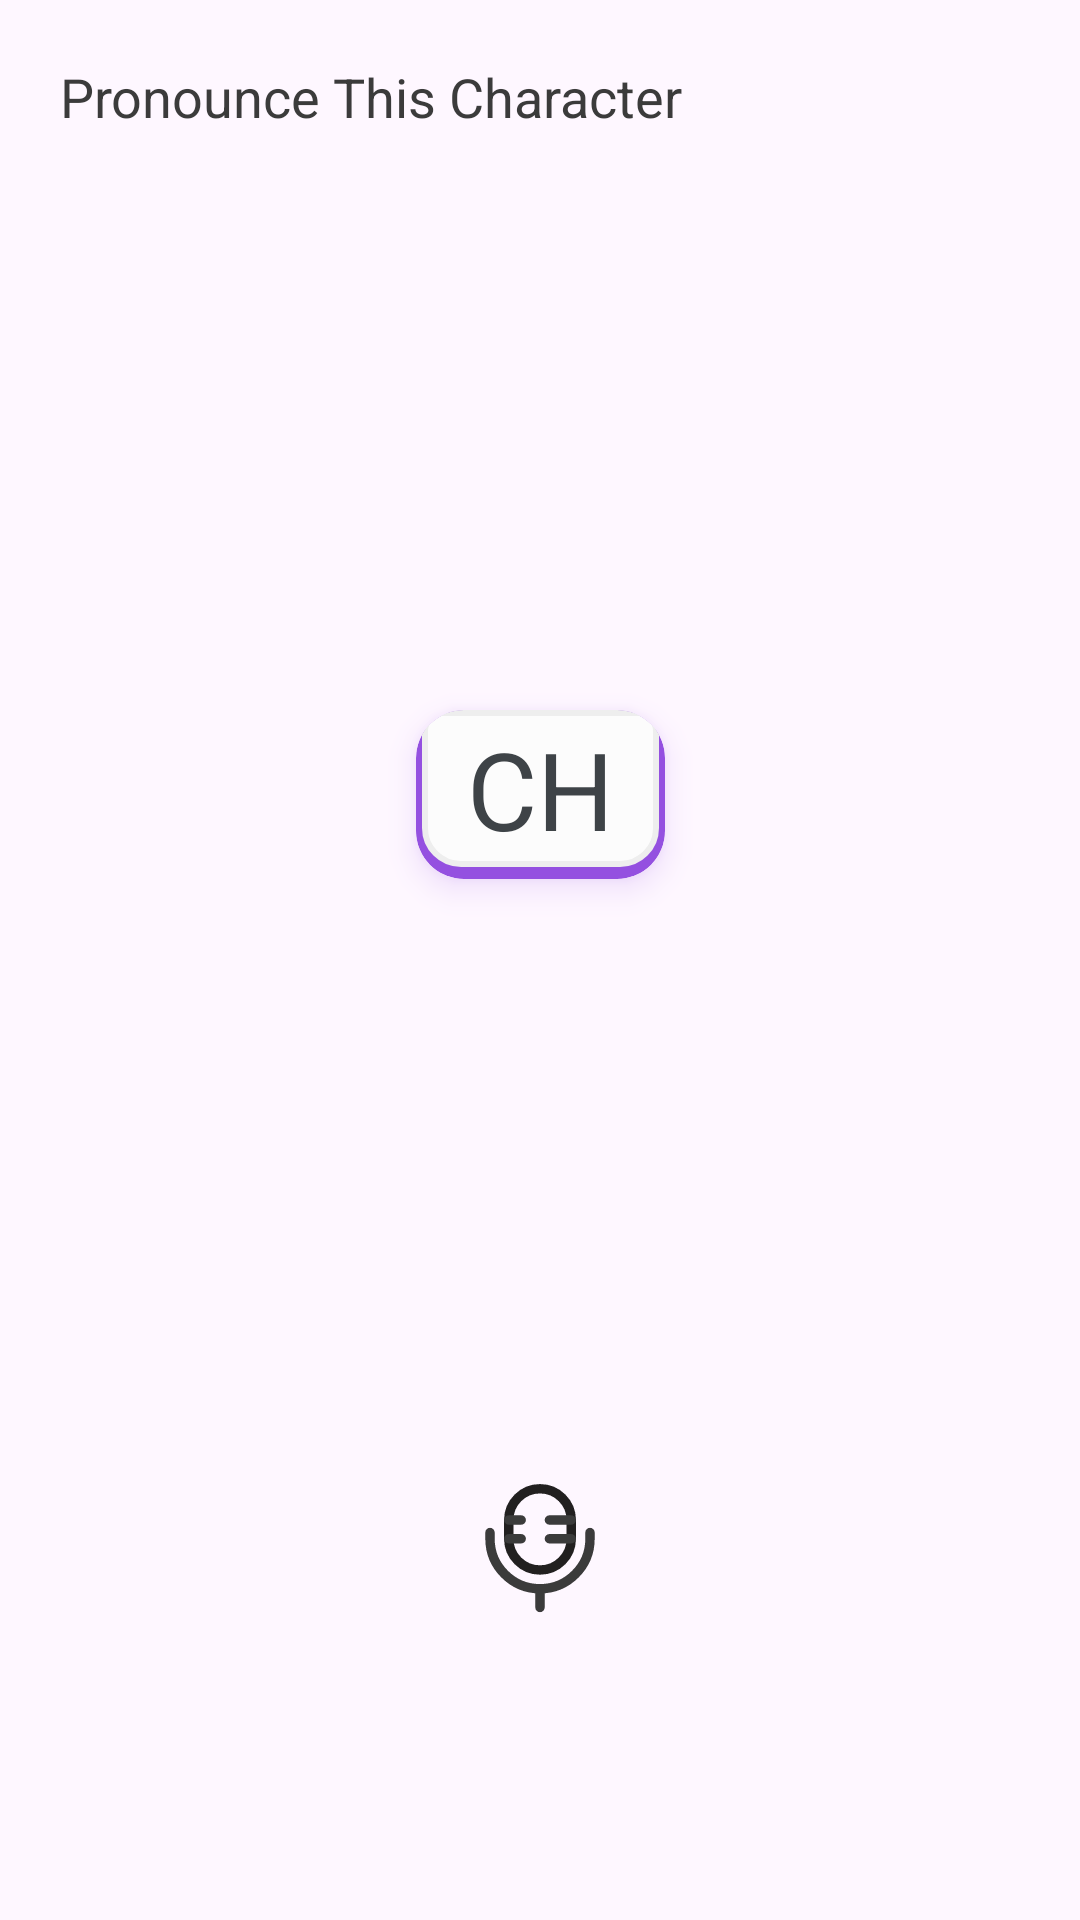

Screen size 1080w x 1920h. Icon name, then its box in pixels as (x1, y1, x2, y2):
microphone: (485, 1484, 595, 1612)
